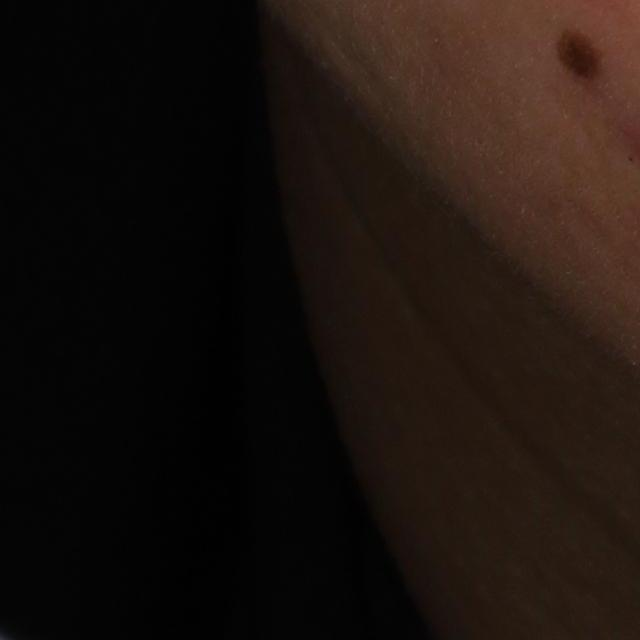nevus: (552, 27, 612, 86)
